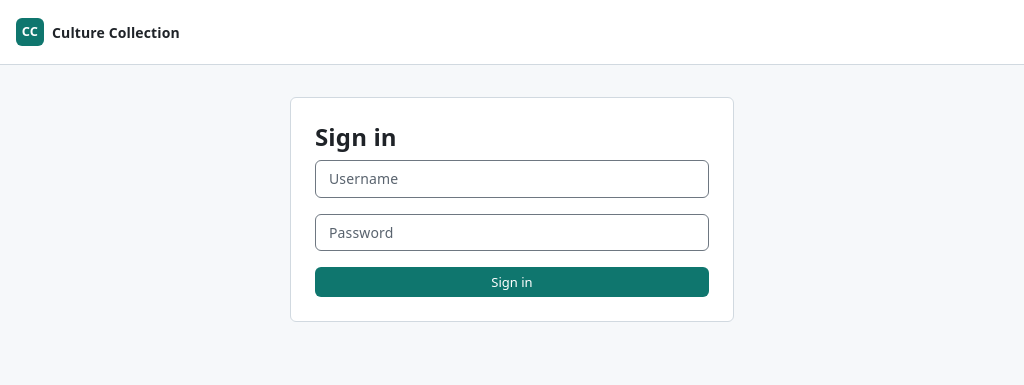
routing and the session guard › ignores a hostile redirect
Type "lab-tech" into the field labelled "Username".
click(512, 179); type("lab-tech")  # box [315,160,709,198]
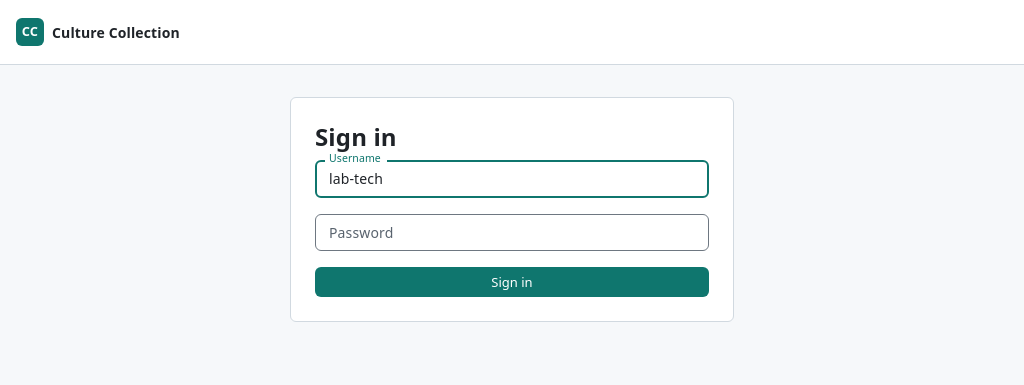
Type "correct horse battery" into the password field labelled "Password".
click(512, 232); type("correct horse battery")  # box [315,214,709,251]
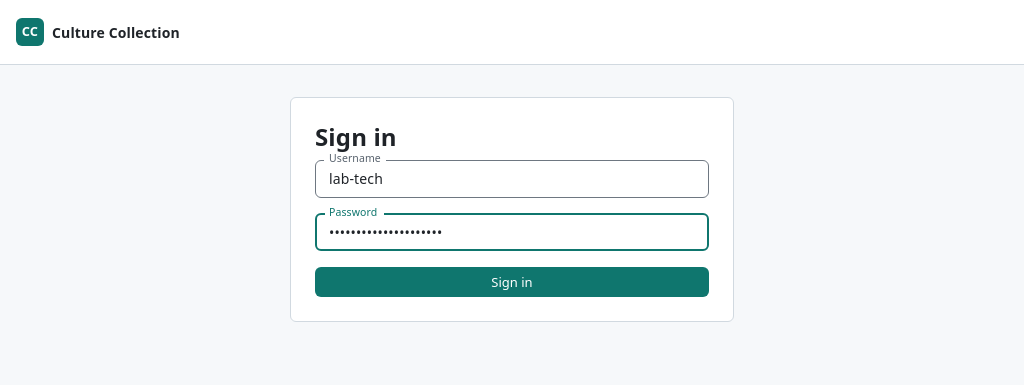
Click the button "Sign in".
click(512, 282)  # box [315,267,709,297]
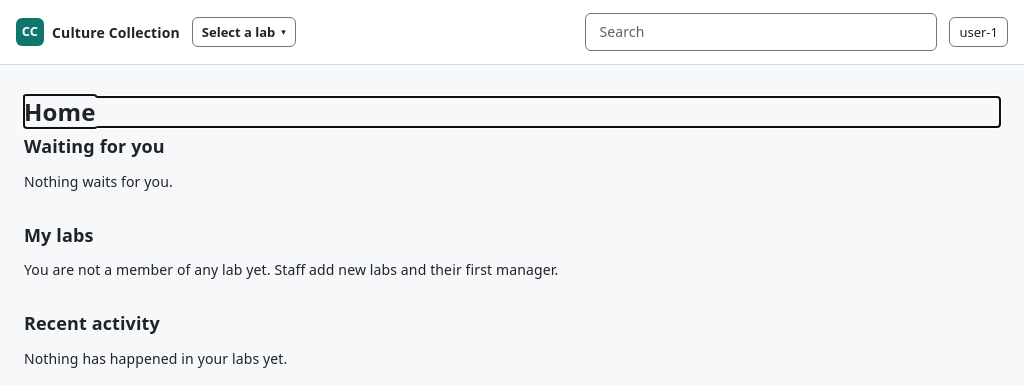
Check: the heading "Home" is shown, box [24,95,96,128]
